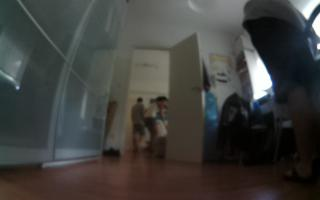person: (238, 1, 320, 184), (143, 94, 172, 163), (126, 94, 149, 159)
